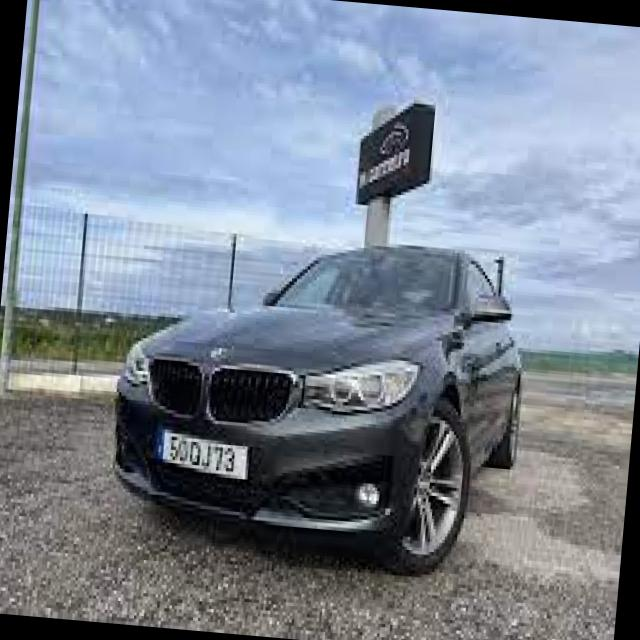portuguese-license-plates: (153, 421, 254, 482)
